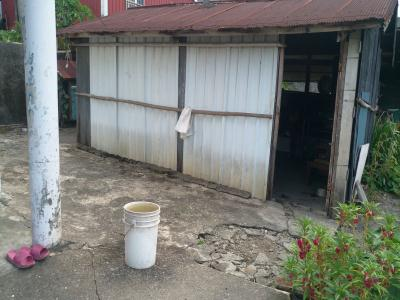bucket: (118, 198, 162, 273)
